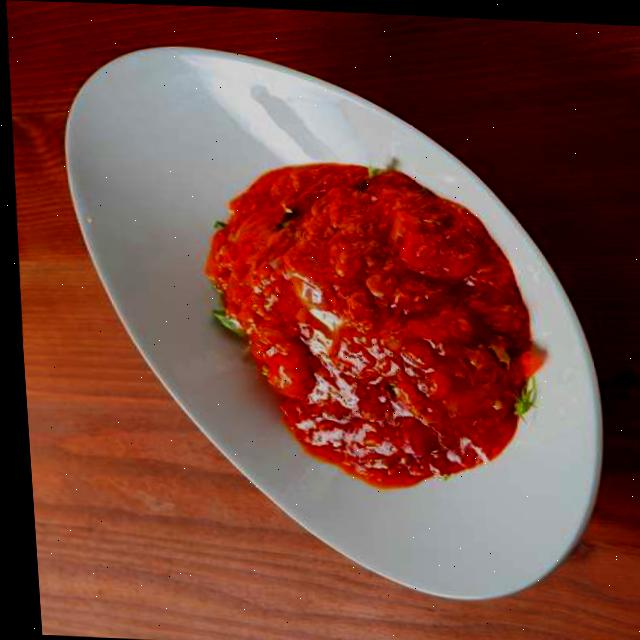熟制海鲜: (26, 24, 623, 619)
